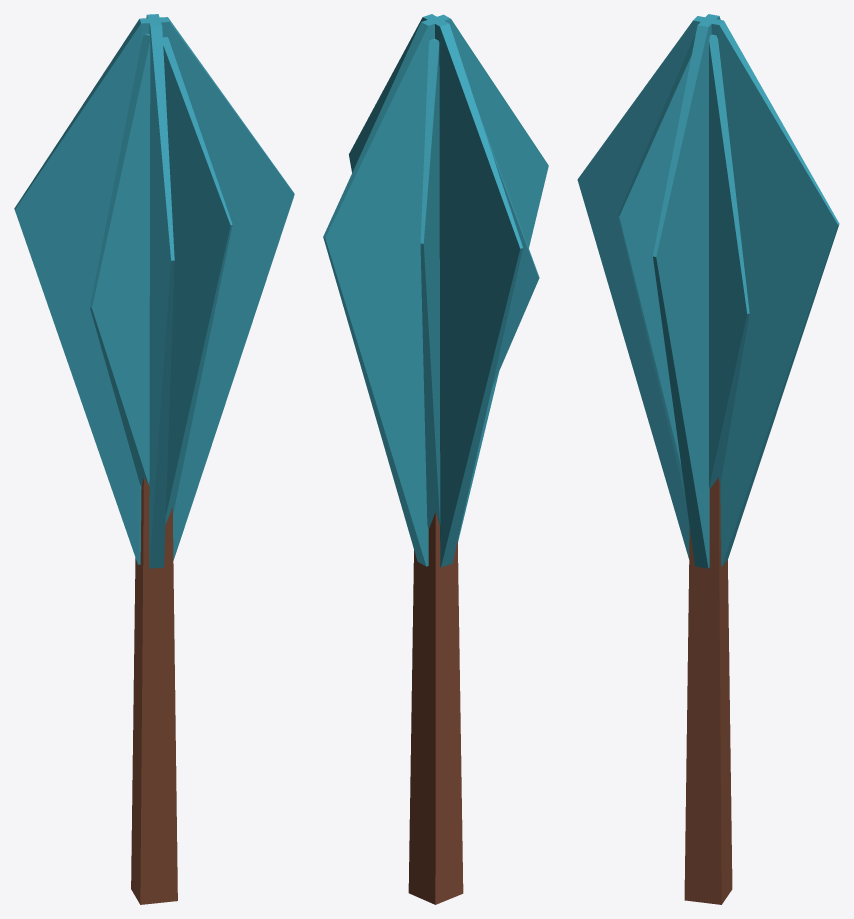
Rendered from Tree_33_summer_blue_mat.fbx.
The picture shows the model from 3 angles, left to right: view 1: azimuth 30°, elevation 25°; view 2: azimuth 150°, elevation 25°; view 3: azimuth 270°, elevation 25°; orthographic projection.
Visible parts, largest first — view 1: Tree_33_summer_blue_mat; view 2: Tree_33_summer_blue_mat; view 3: Tree_33_summer_blue_mat.
Boxes of the visible parts, x1,y1,x2,y2 form: Tree_33_summer_blue_mat: (14,14,294,904); Tree_33_summer_blue_mat: (323,14,548,904); Tree_33_summer_blue_mat: (577,14,839,904).
Bounding box in the file's own units: 84.61 × 311 × 84.61.
